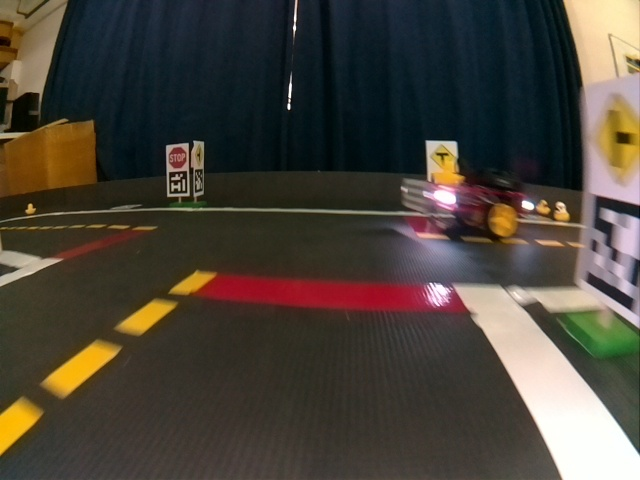Duckie: (555, 201, 571, 221), (536, 199, 548, 215), (25, 205, 35, 215)
Duckiebot: (400, 171, 523, 239)
Intersection sign: (591, 94, 637, 186), (430, 146, 456, 171), (195, 144, 205, 164)
QR code: (584, 197, 635, 314), (168, 173, 188, 195), (194, 171, 203, 192)
Stop sign: (167, 147, 185, 169)
